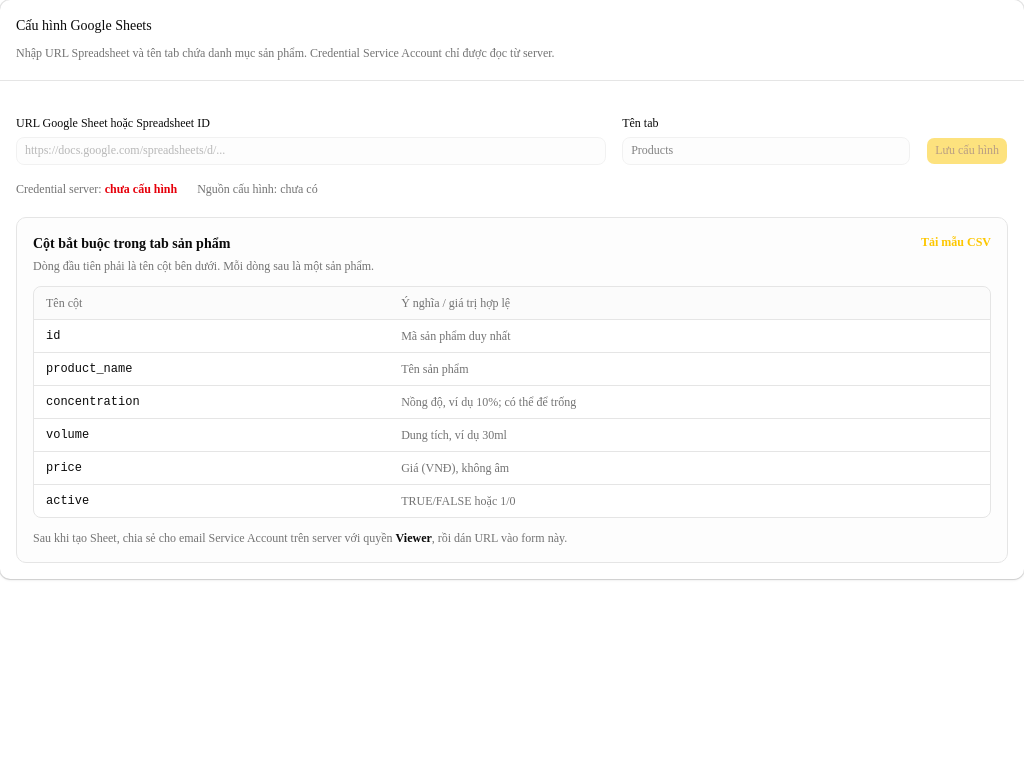
Test: GoogleSheetConfig › loads the current source and saves an edited tab
Type "Catalog" into the field labelled "Tên tab".
click(766, 150); type("Catalog")  # box [622,136,910,164]
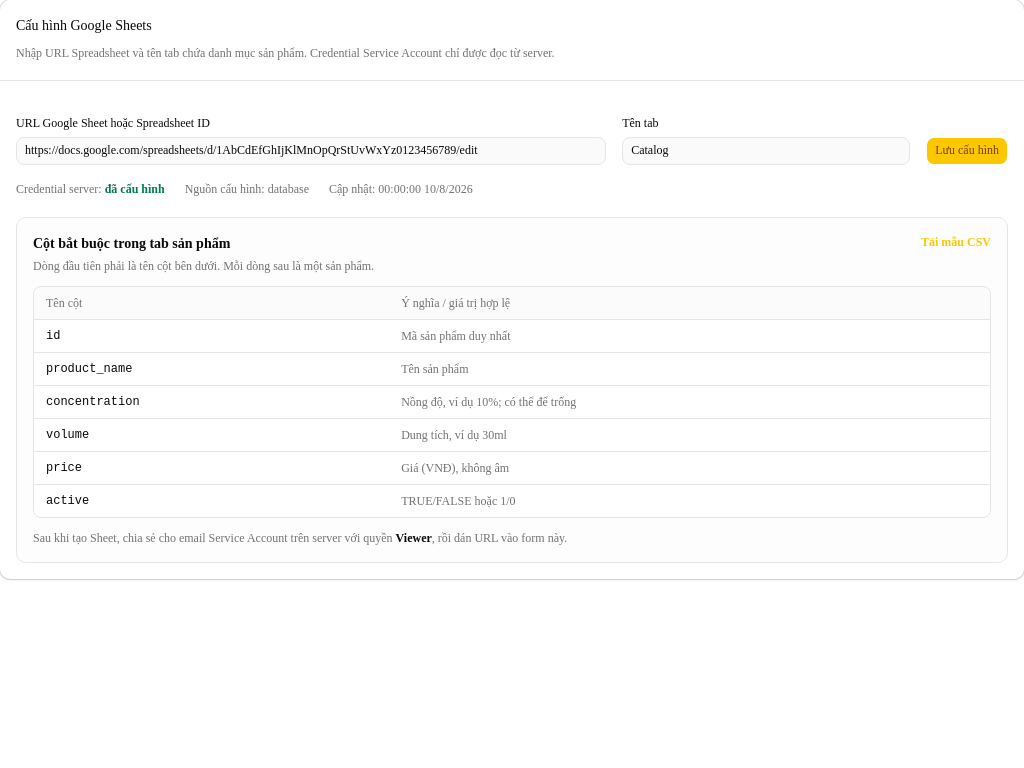
Click the button "Lưu cấu hình".
click(967, 150)  # box [926,136,1008,164]
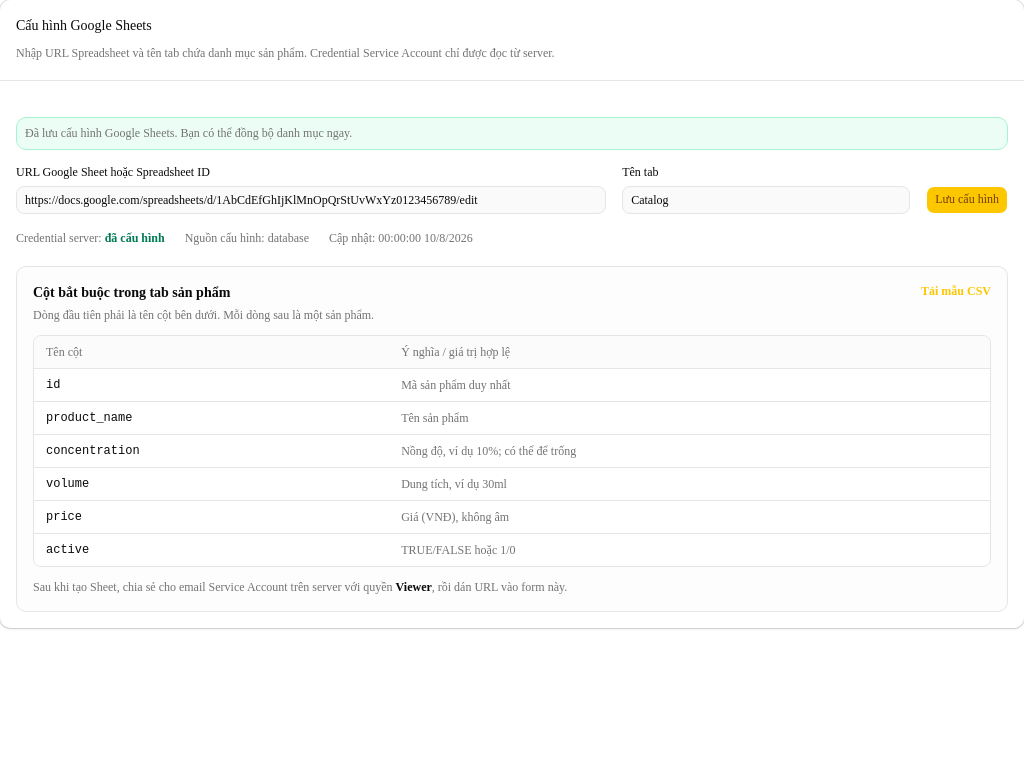
Expected: the text "Đã lưu cấu hình Google Sheets. Bạn có thể đồng bộ danh mục ngay." is shown, [25,126,352,140]
